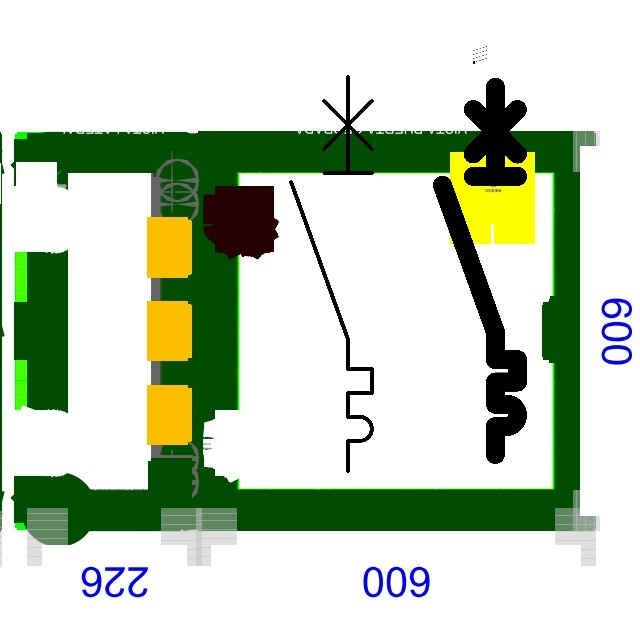interruptor_termomagnetico: (281, 67, 382, 481), (433, 77, 527, 463)
